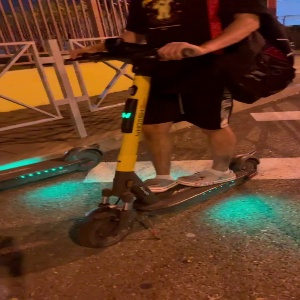human on a scooter: (66, 1, 296, 251)
